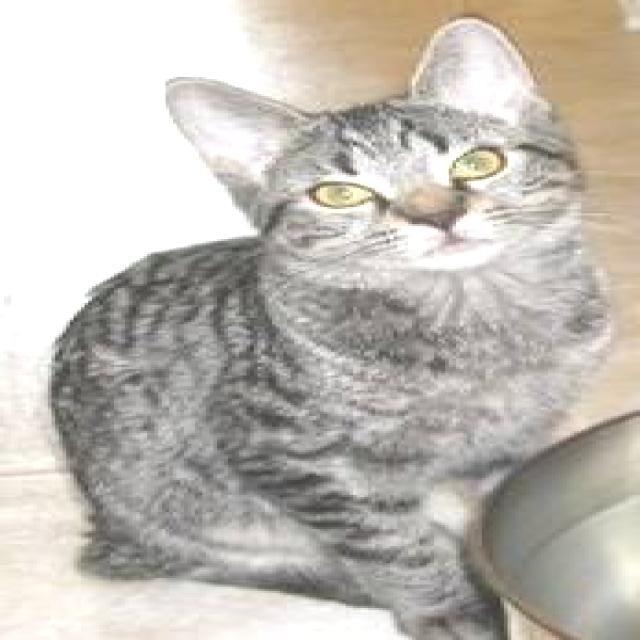Kucing: (4, 0, 630, 631)
